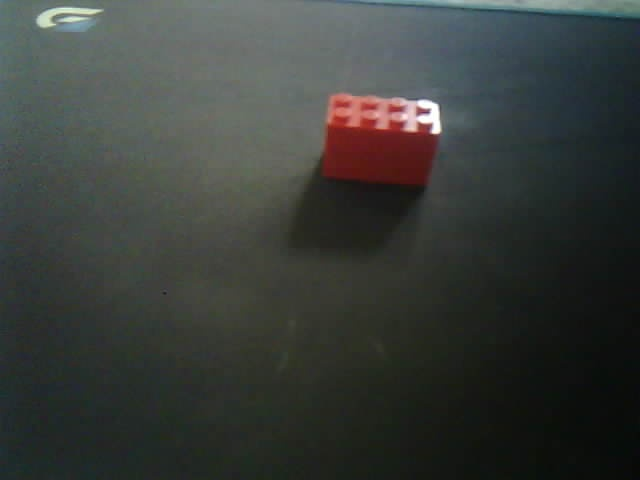lego: (319, 91, 442, 188)
